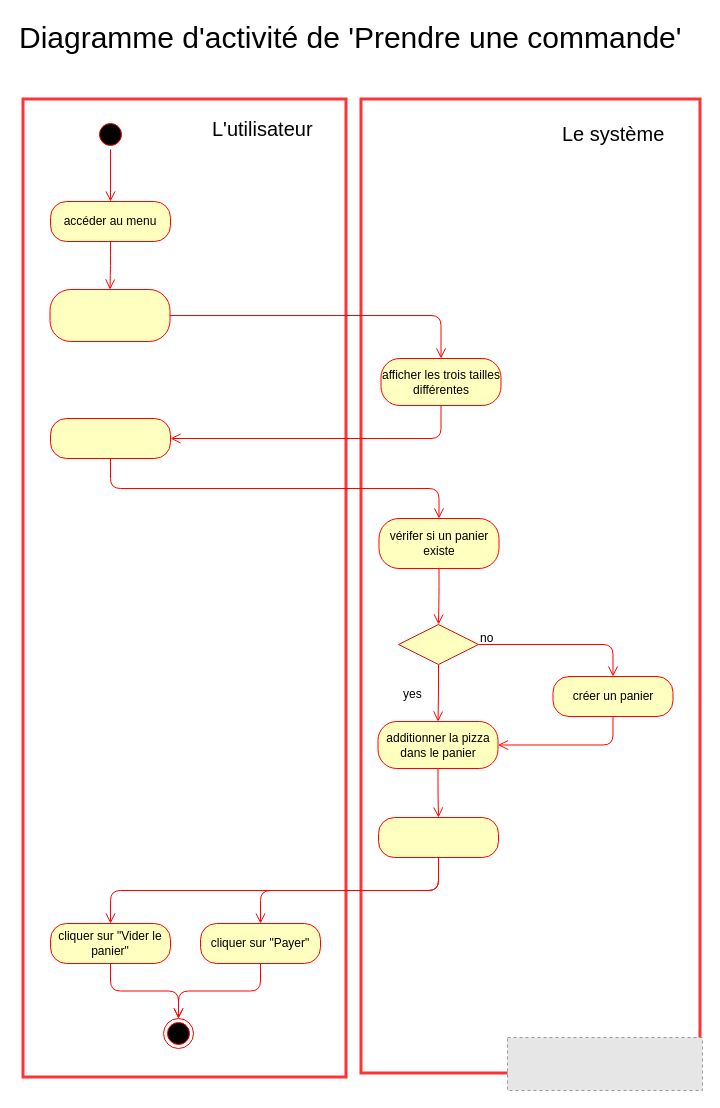
This 720x1108 diagram has some shape labels left out. Grey dashed boxes stand in for pictures. The box of each missing label's shape, as (x1, y1, x2, y2) in pixels:
afficher le panier: (378, 816, 498, 858)
cliquer sur une taille: (50, 418, 170, 458)
condition: (398, 624, 478, 664)
déplacer le curseur sur une pizza: (49, 288, 170, 342)
